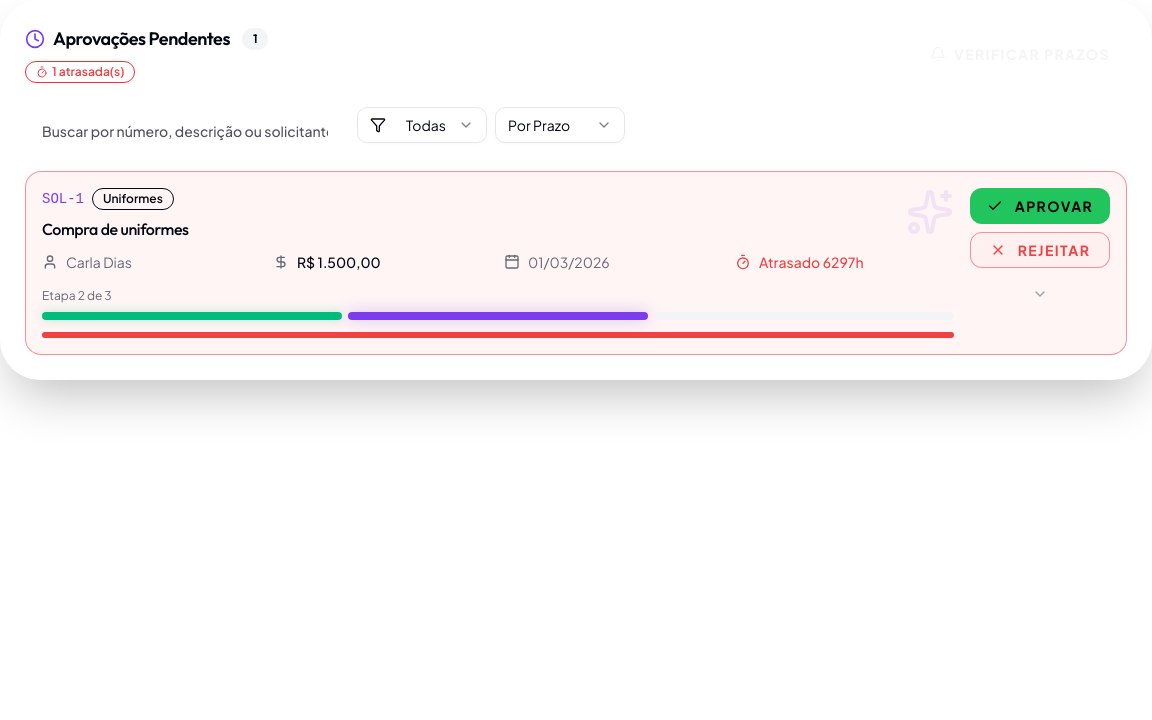
Scenario: PendingApprovalsList - 'Ver Histórico' abre o historico do workflow (QA 253) › lista os eventos mais recentes primeiro
Press the mouse on the button named "Mais ações da aprovação" at (1040, 294), box x1=970 y1=276 x2=1110 y2=312
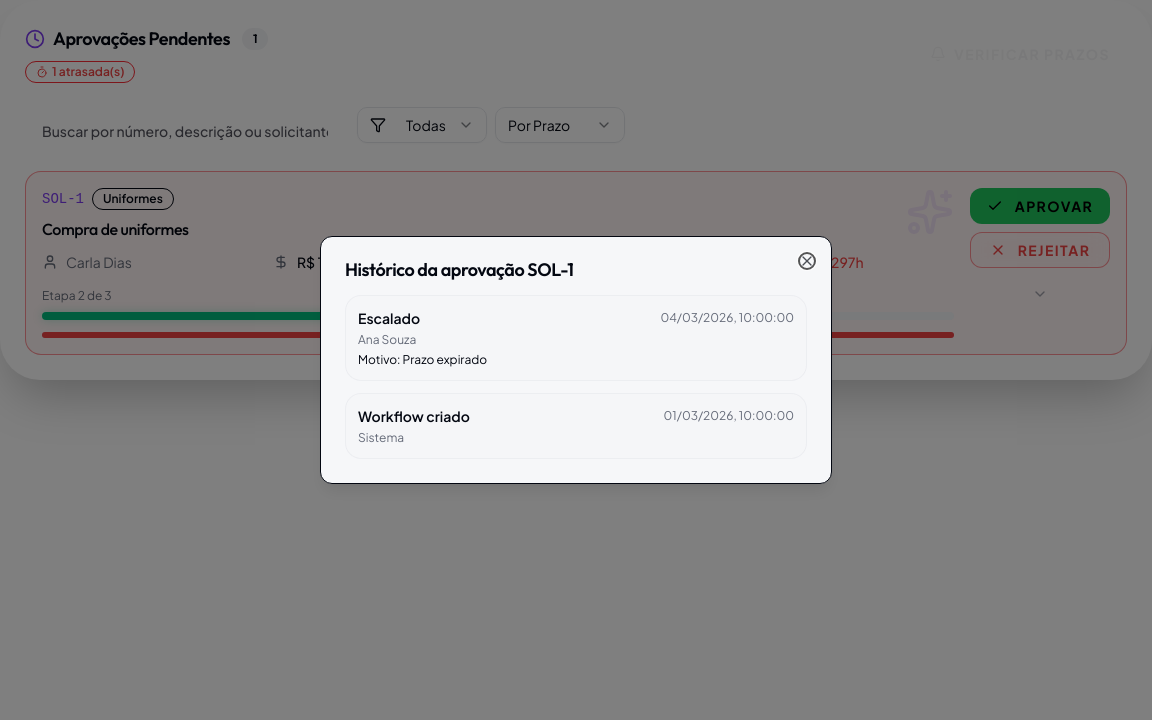
Expected: the dialog shows "Motivo: Prazo expirado", x1=320 y1=236 x2=832 y2=484
